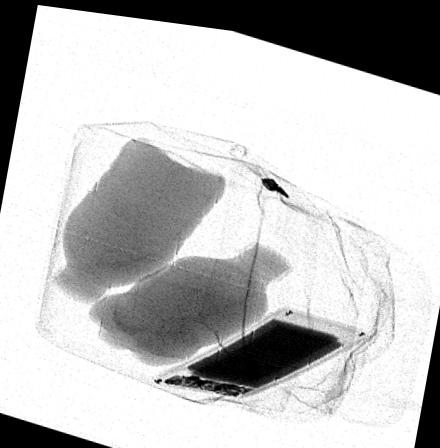Powerbank: (151, 298, 372, 393)
